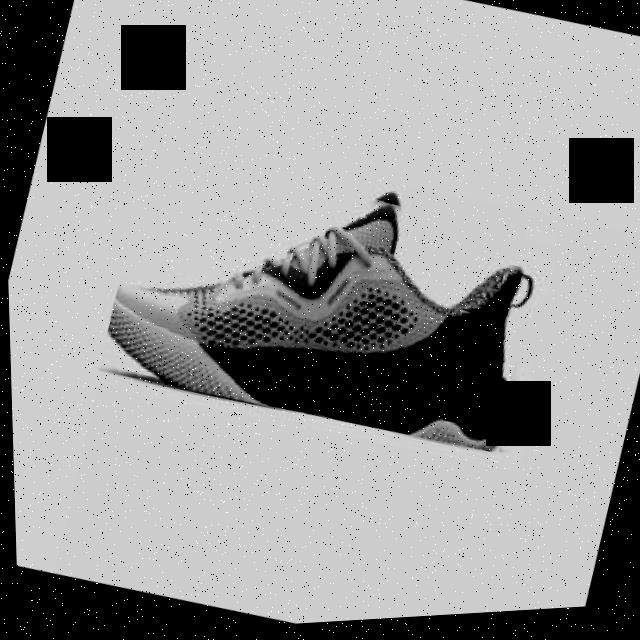shoe: (90, 124, 564, 480)
